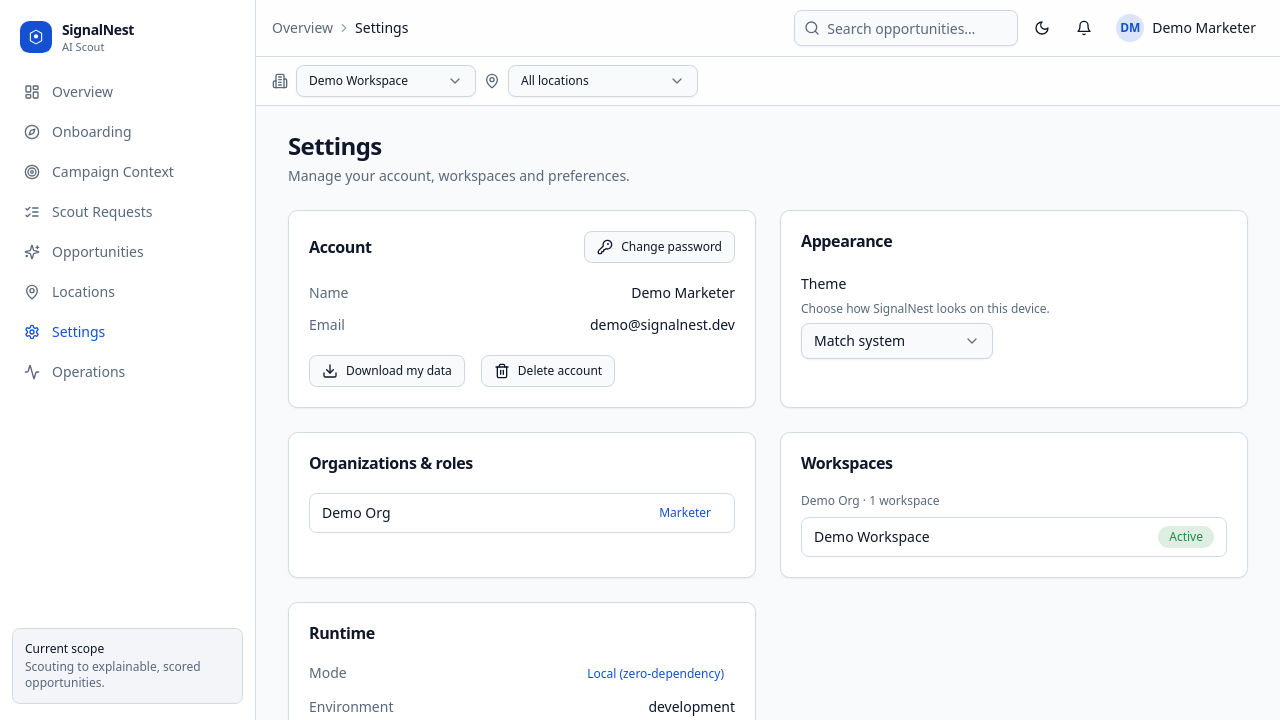
Test: account deletion › shows the impact, sends exactly the password and DELETE, and signs this tab out
The image size is (1280, 720).
Click the button "Delete account".
click(548, 371)  # box top-left (481, 355), bottom-right (615, 387)
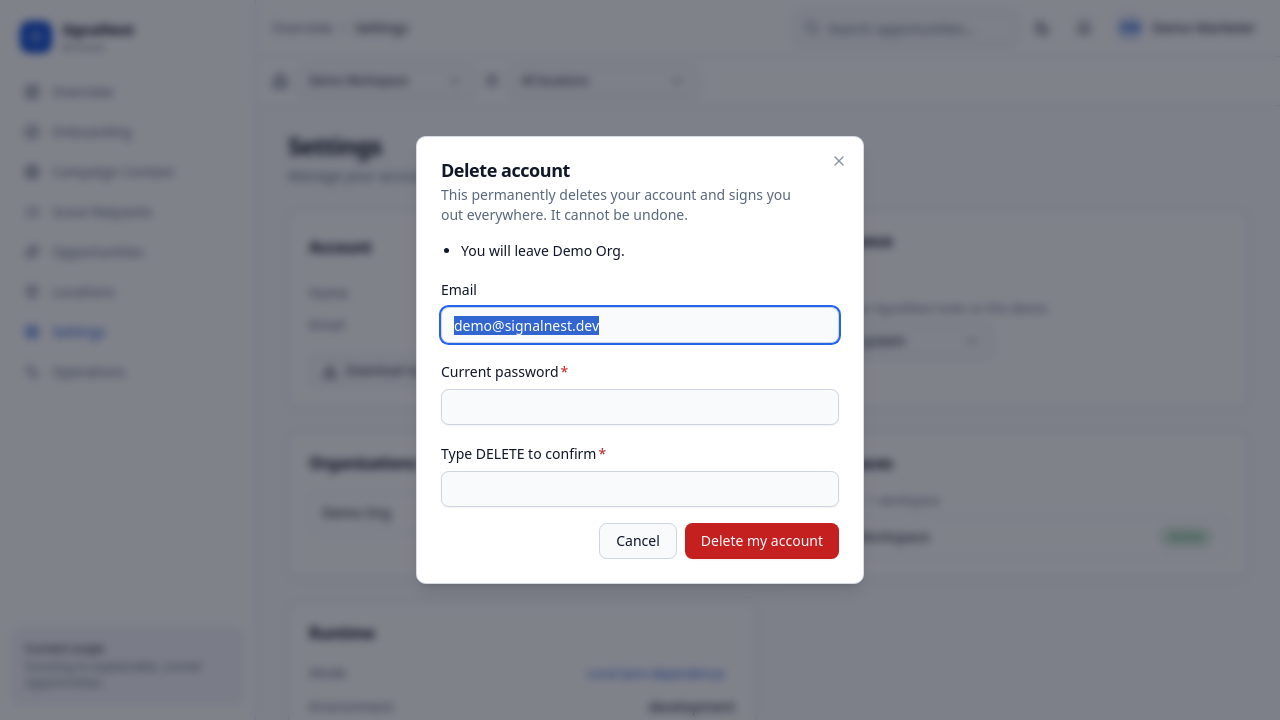
Result: the list item "You will leave Demo Org." is shown at top-left (461, 241), bottom-right (625, 260)
Type "my password 1" into the password field labelled "Current password*".
click(640, 407); type("my password 1")  # box top-left (441, 389), bottom-right (839, 425)
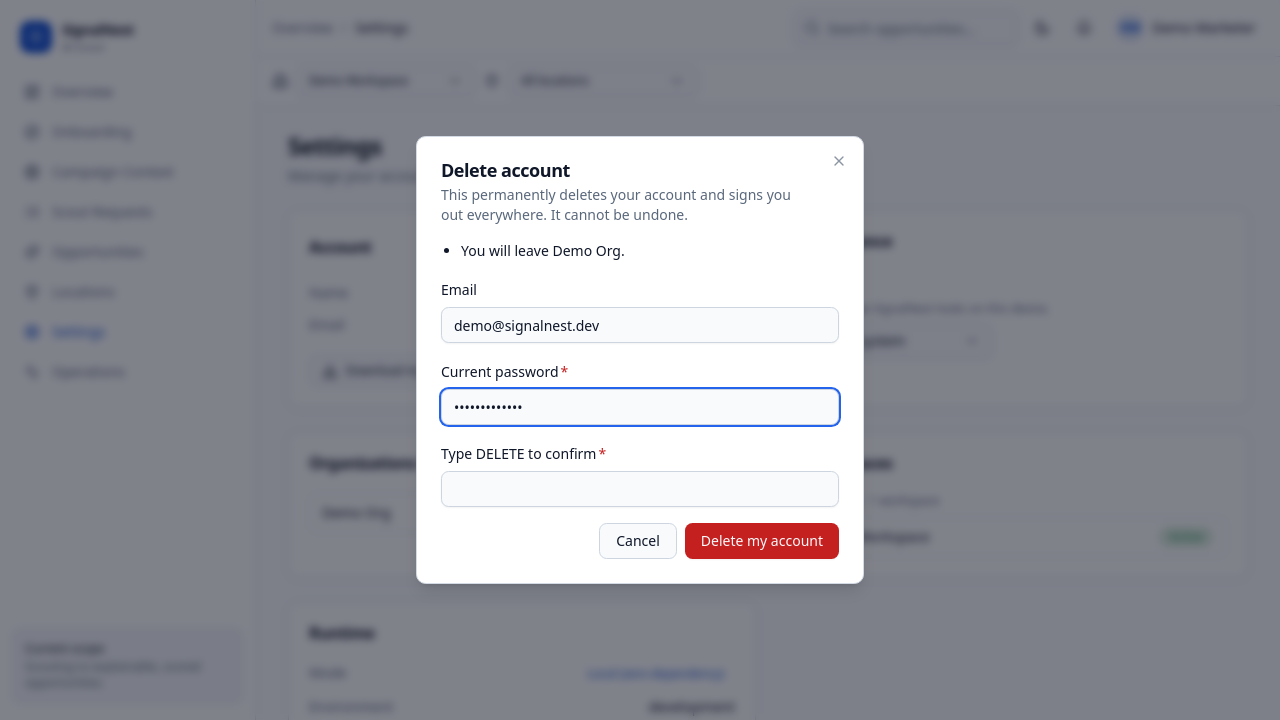
Type "DELETE" into the field labelled "Type DELETE to confirm*".
click(640, 489); type("DELETE")  # box top-left (441, 471), bottom-right (839, 507)
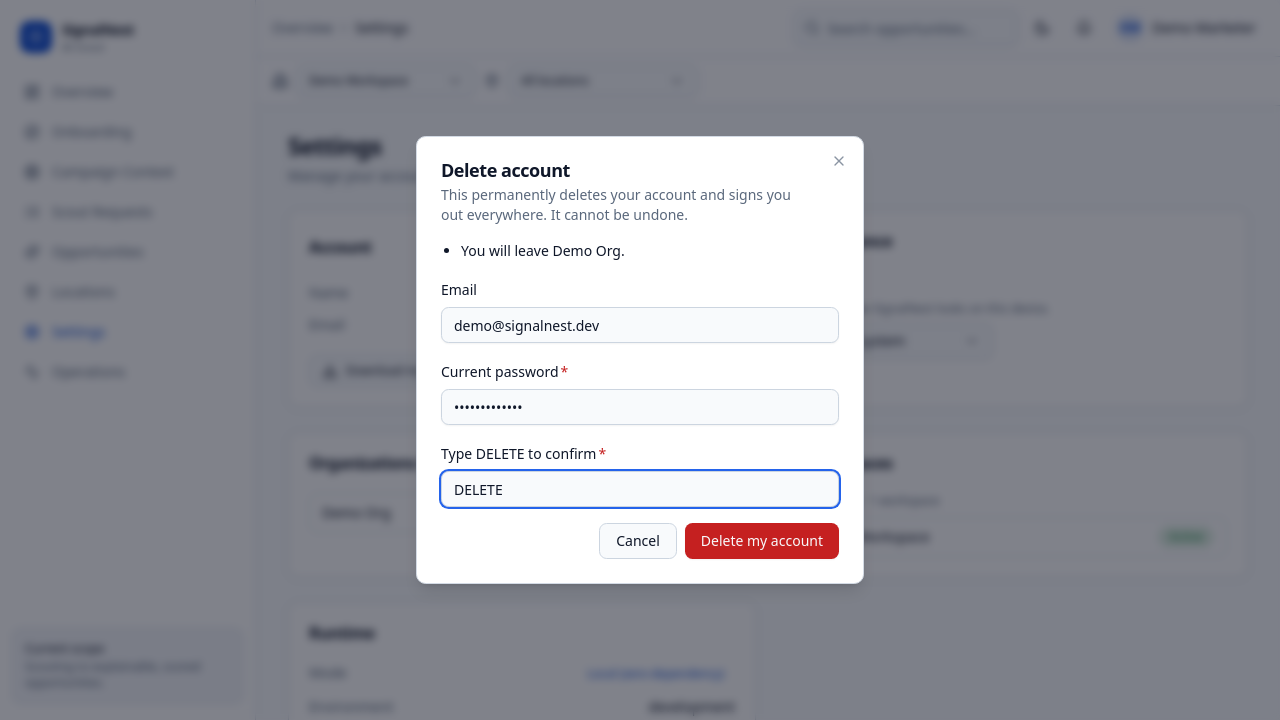
Click the button "Delete my account".
click(762, 541)  # box top-left (685, 523), bottom-right (839, 559)
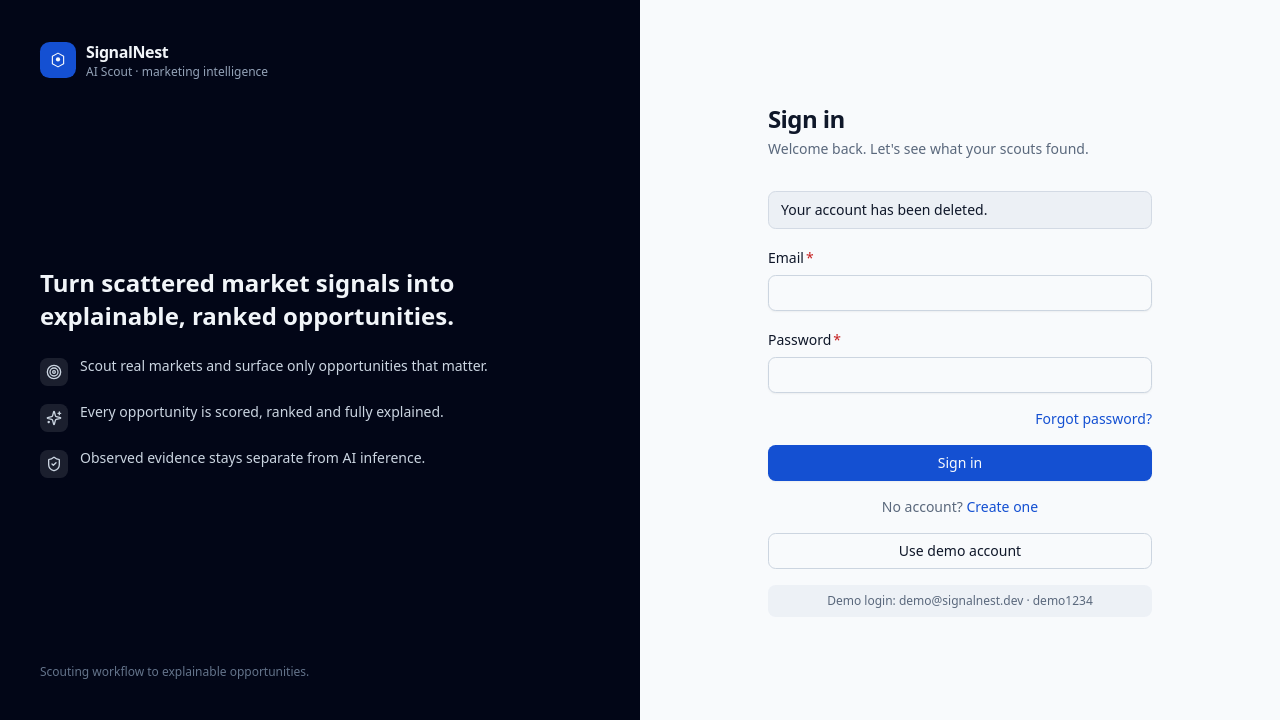
Result: the text "Your account has been deleted." is shown at top-left (768, 191), bottom-right (1152, 229)
